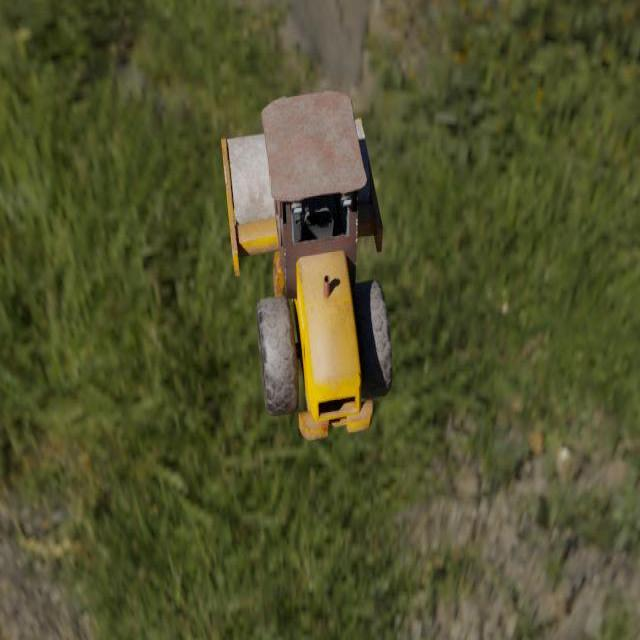Roller: (221, 89, 393, 440)
